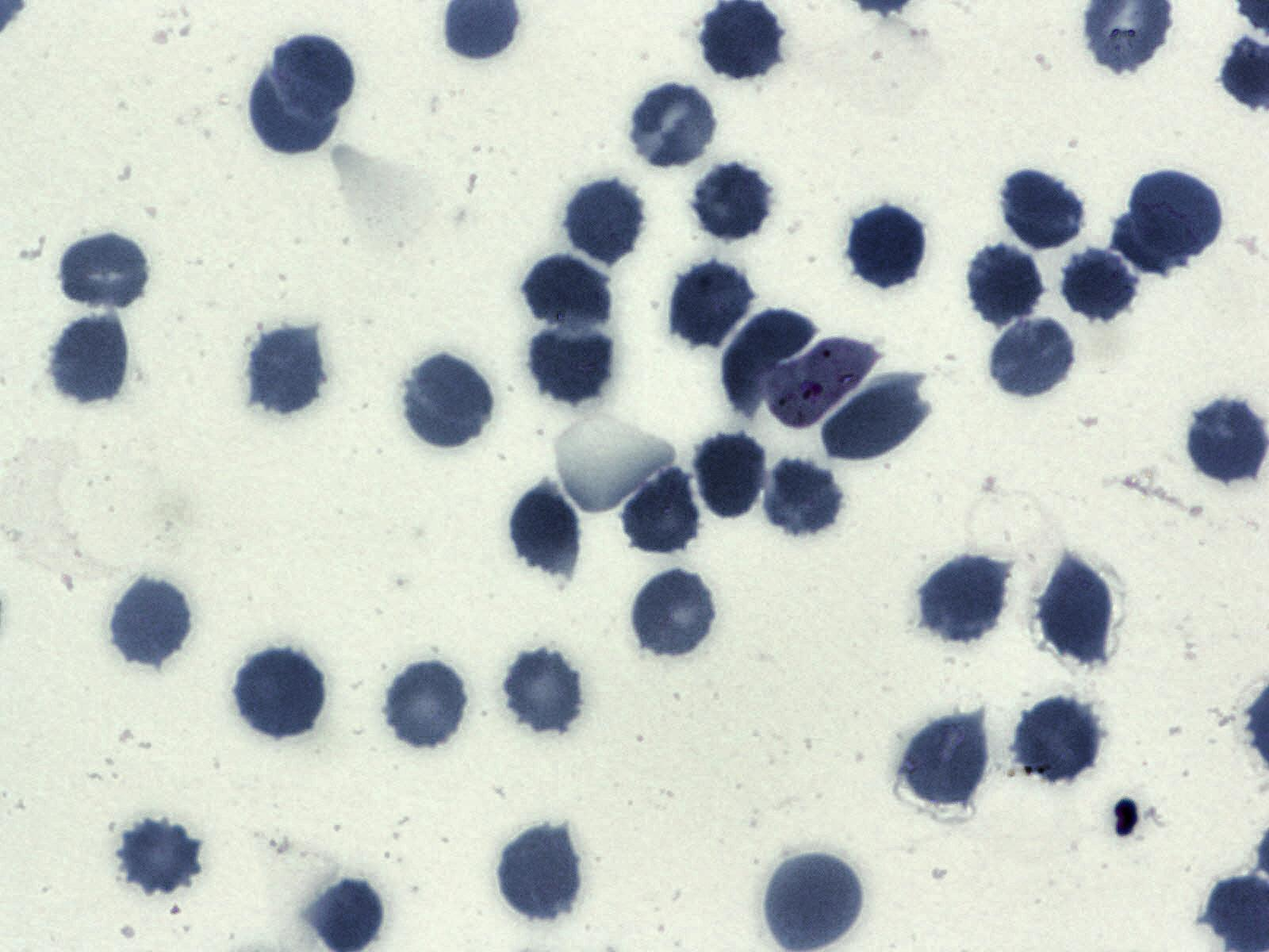Infected: (761, 335, 883, 430)
Uninfected: (719, 307, 819, 417), (765, 848, 865, 948), (817, 373, 925, 464), (401, 354, 495, 450), (496, 820, 583, 923), (902, 710, 991, 807), (233, 646, 325, 739), (629, 565, 719, 660), (55, 228, 154, 313), (1128, 171, 1221, 261), (48, 309, 132, 408), (109, 571, 195, 667), (627, 80, 718, 170), (383, 657, 470, 751), (1040, 555, 1115, 664), (244, 67, 339, 153), (920, 551, 1009, 640), (500, 645, 586, 735), (245, 324, 327, 418), (1014, 694, 1102, 781), (671, 259, 756, 347), (620, 470, 704, 558), (988, 318, 1079, 399), (522, 251, 613, 332), (508, 481, 585, 576), (273, 32, 357, 117), (1187, 396, 1268, 484), (563, 178, 645, 264), (525, 323, 615, 401), (116, 814, 201, 896), (849, 202, 929, 289), (1000, 167, 1083, 250), (1108, 202, 1196, 279), (966, 242, 1045, 326), (763, 458, 845, 538), (696, 432, 768, 522), (1059, 244, 1141, 323), (691, 163, 772, 240)
